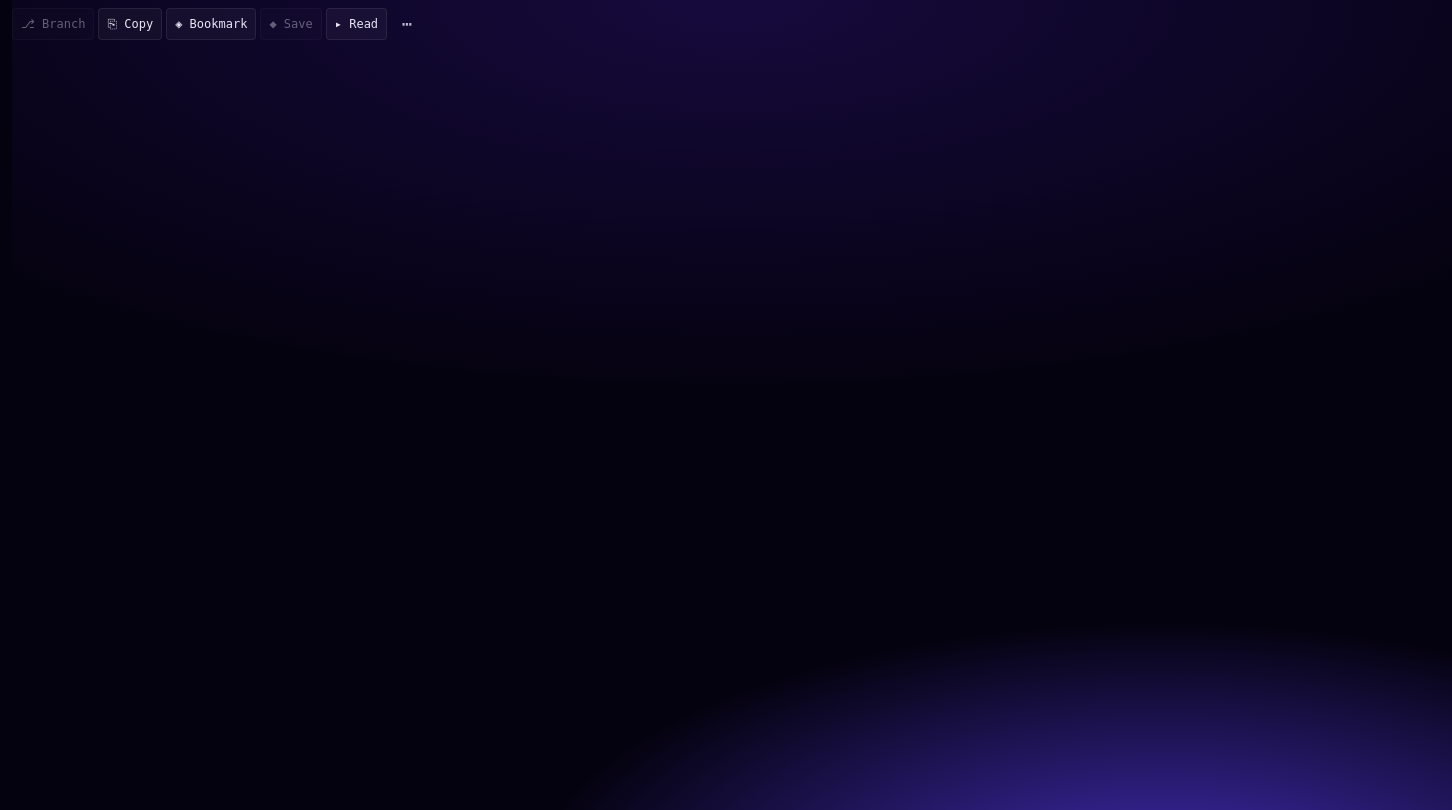
Save as template (in the overflow, not the flat row) › keeps "Save as template" out of the flat control row, behind the ⋯
The image size is (1452, 810).
Expected: the text "save as template" is not shown
Click the button named "more actions" at (407, 24), box [391,8,423,40]
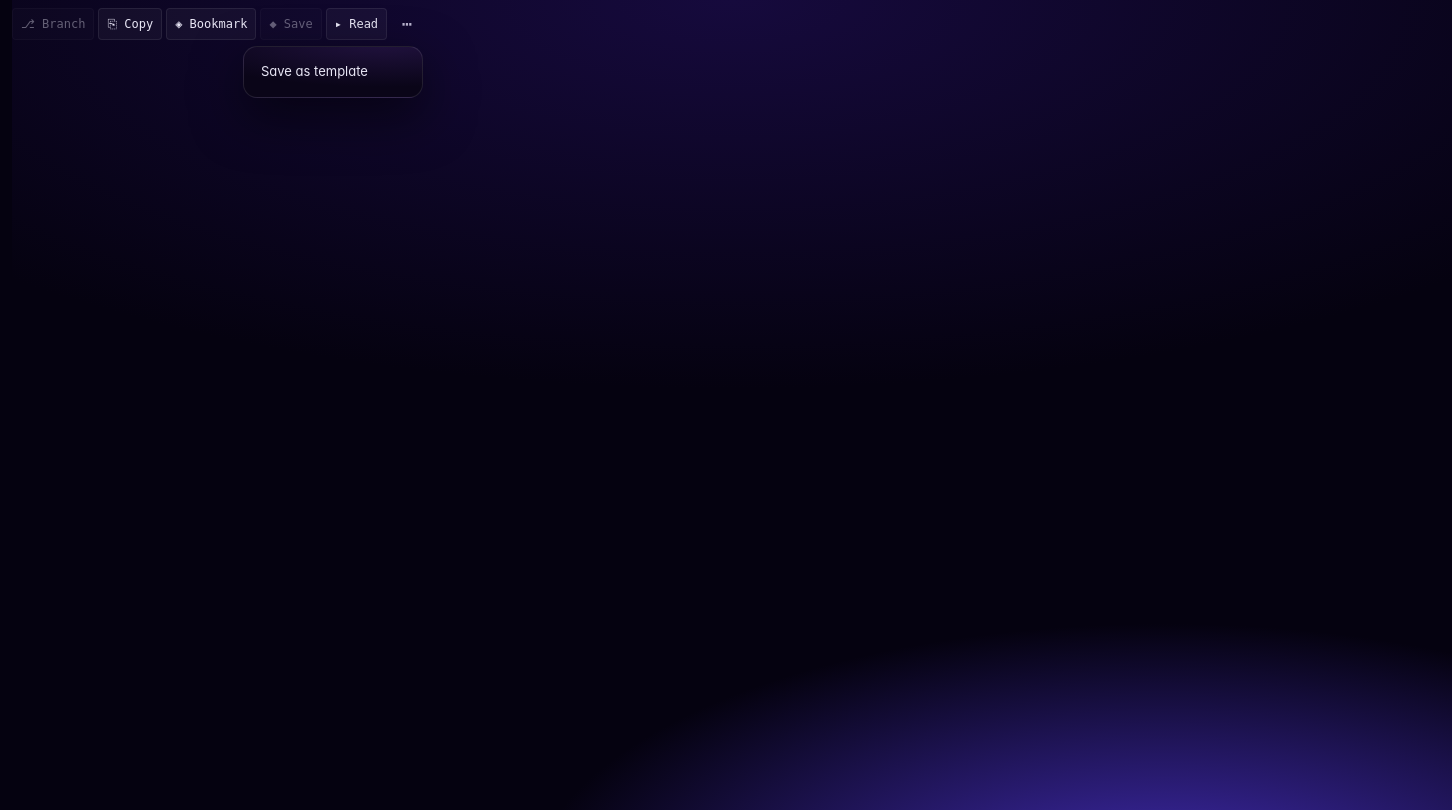
Result: the text "Save as template" is shown at [261,63,368,79]
